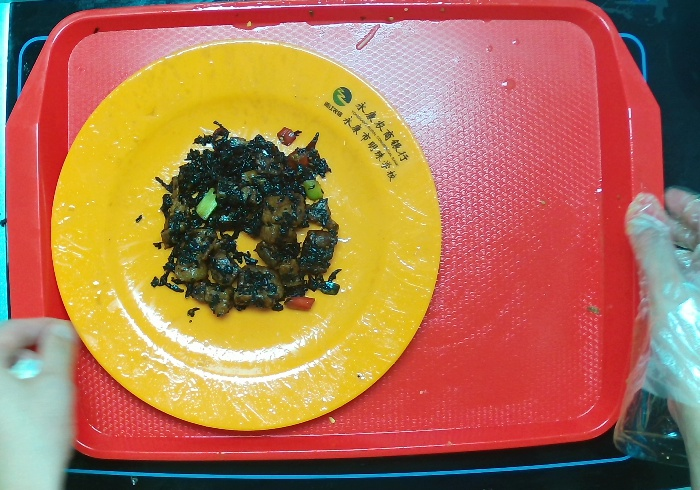YKMZ-Ju_Se_Mian_Pan: (38, 35, 467, 452)
